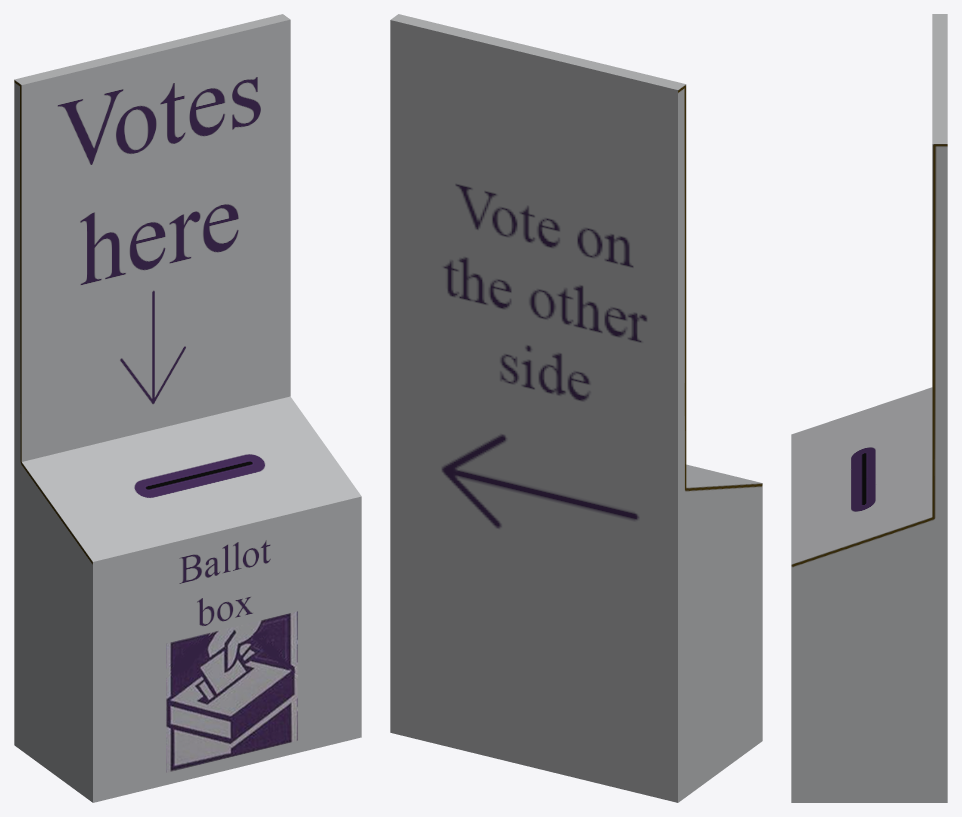
Rendered from ballotbox.fbx.
3 renders of one model, left to right at view 1: azimuth 30°, elevation 25°; view 2: azimuth 150°, elevation 25°; view 3: azimuth 270°, elevation 25°, orthographic. The views are drawn at different scales.
Visible parts, largest first — view 1: ballot; view 2: ballot; view 3: ballot.
Part boxes in pixels (x1=…): ballot: x1=14, y1=14, x2=361, y2=802; ballot: x1=390, y1=14, x2=762, y2=802; ballot: x1=791, y1=14, x2=947, y2=802.
Bounding box in the file's own units: 1 × 2.37 × 0.5086.
